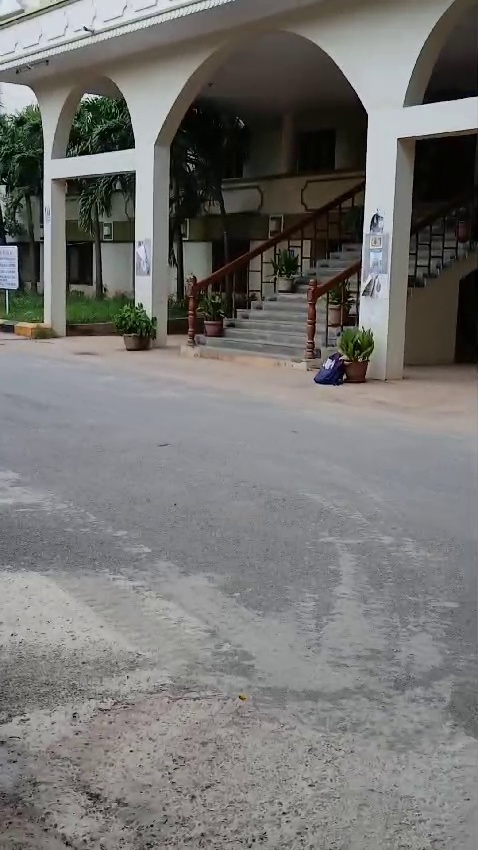bag: (312, 349, 346, 395)
